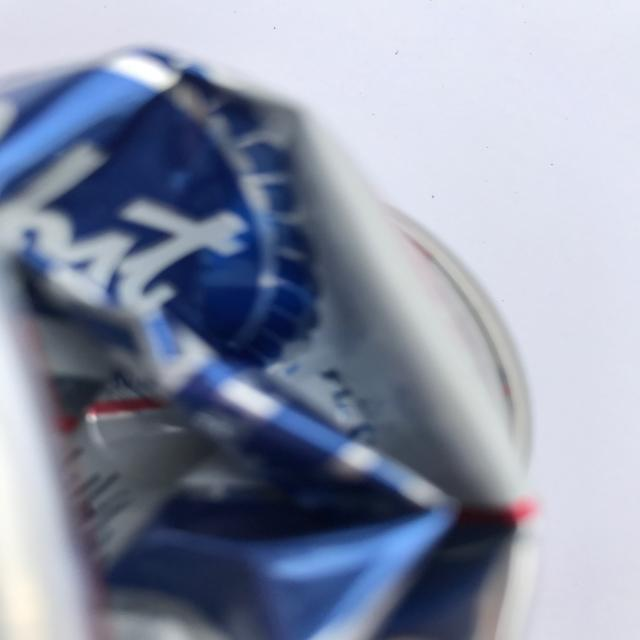metal: (0, 42, 531, 640)
